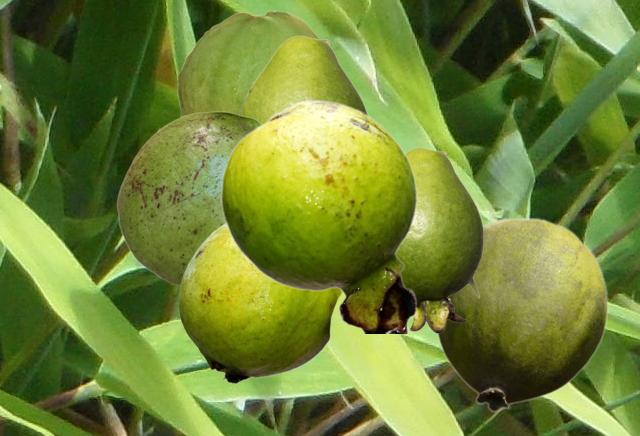guava: (220, 99, 417, 332), (436, 217, 608, 411), (178, 223, 342, 383), (116, 111, 261, 285), (397, 147, 482, 332), (177, 10, 320, 115), (238, 35, 368, 121)
